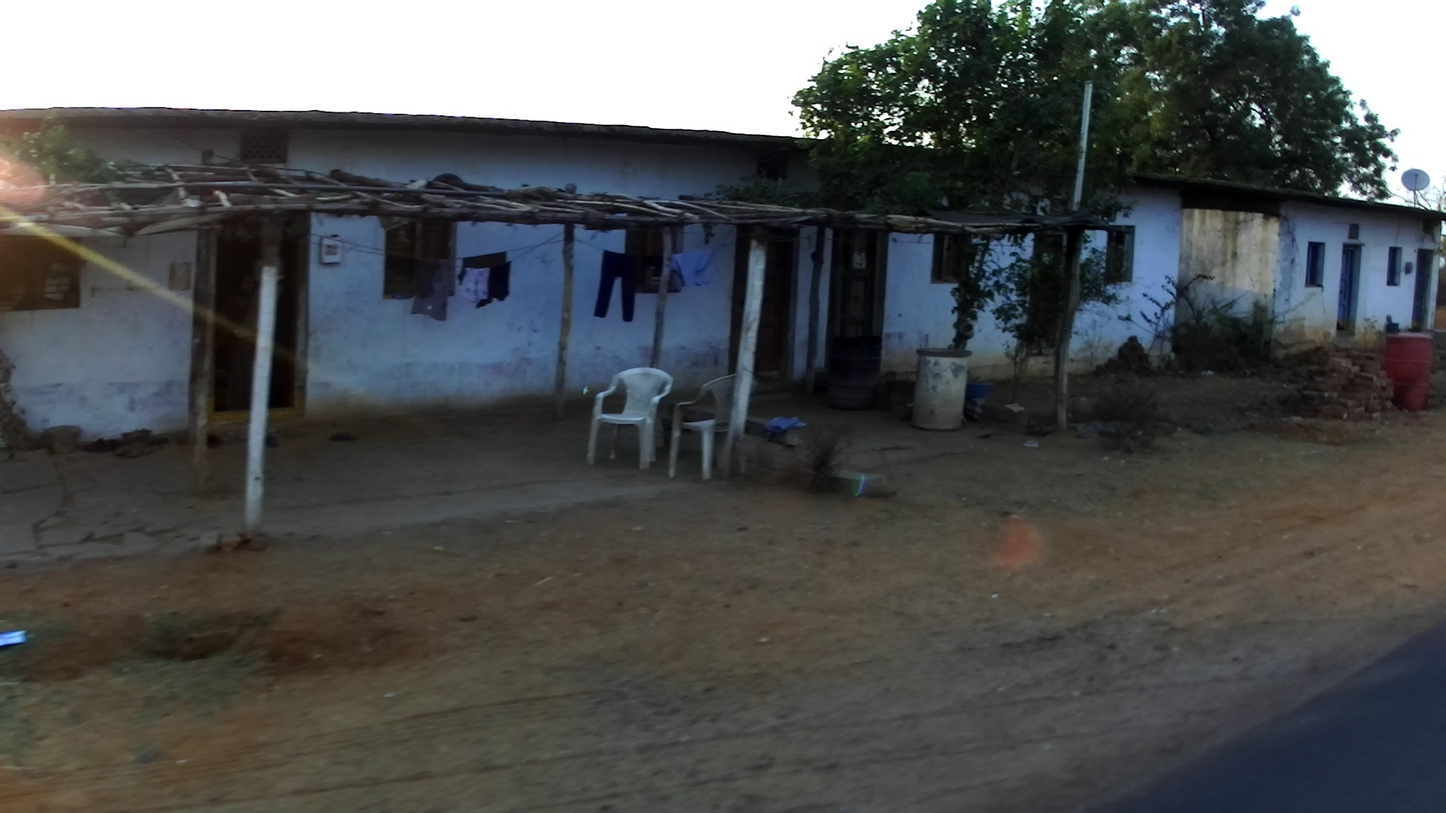person: (218, 276, 276, 411)
